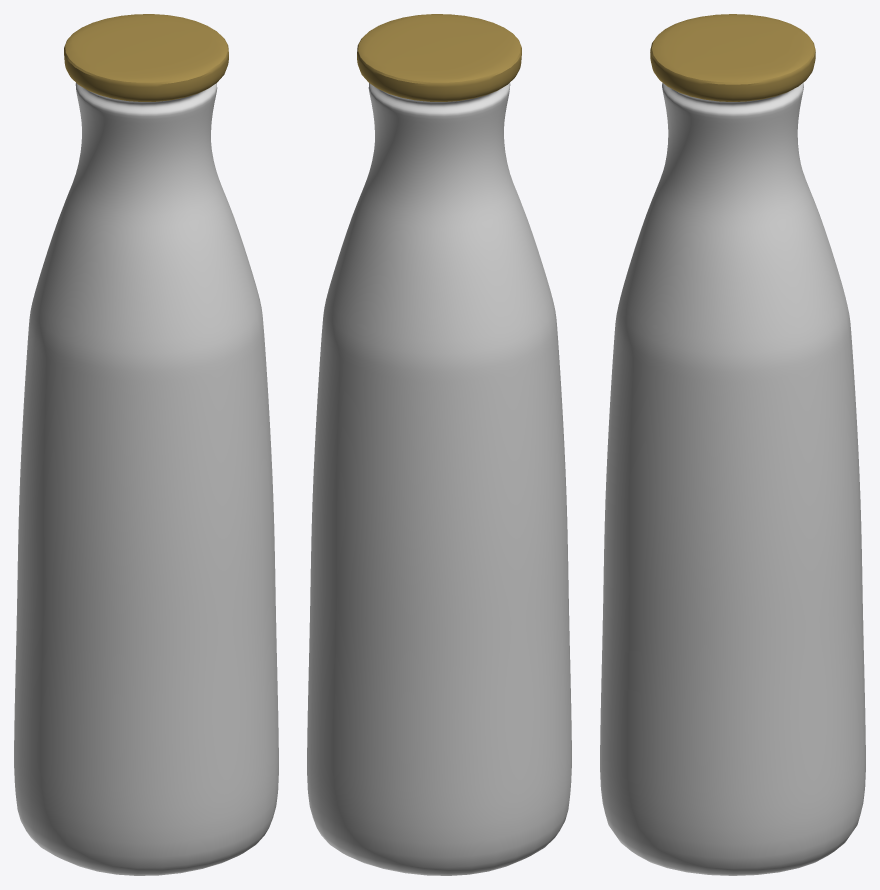
The model's file is milk_bottle.fbx.
3 renders of one model, left to right at view 1: azimuth 30°, elevation 25°; view 2: azimuth 150°, elevation 25°; view 3: azimuth 270°, elevation 25°, orthographic.
Visible parts, largest first — view 1: MilkBottle; view 2: MilkBottle; view 3: MilkBottle.
Part boxes in pixels (<box>): MilkBottle: <box>14,14,278,875</box>; MilkBottle: <box>307,14,571,875</box>; MilkBottle: <box>600,14,865,875</box>.
Bounding box in the file's own units: 48.28 × 158 × 48.28.
